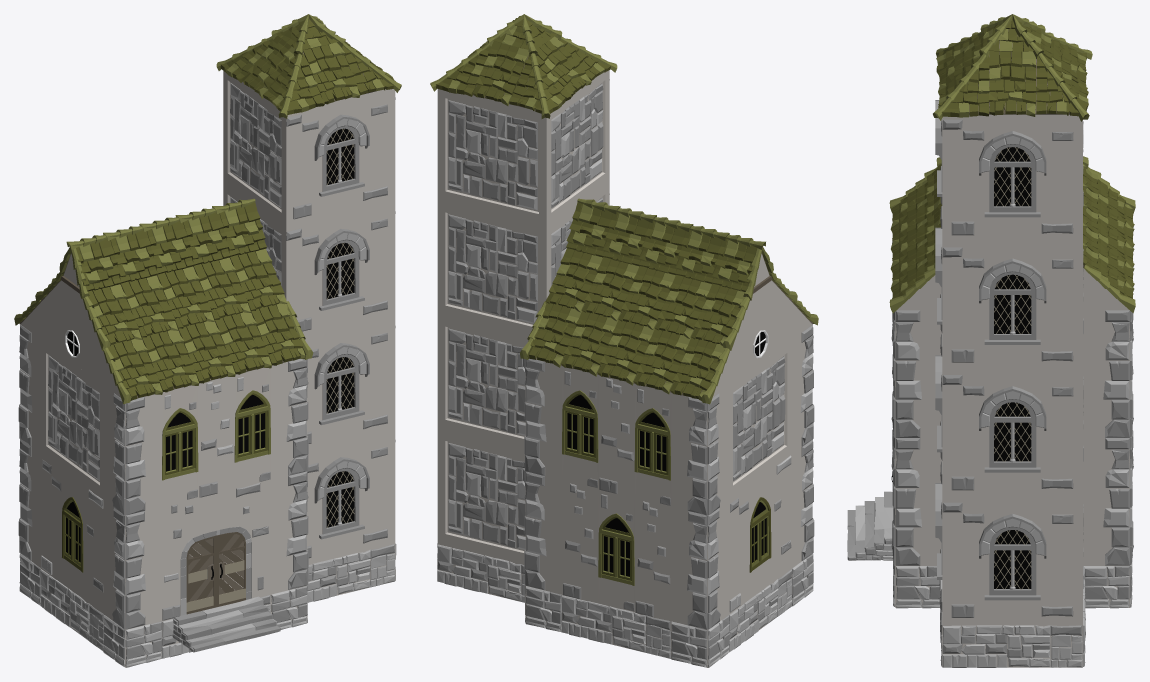
File: House_04.glb
3 views of the same model, side by side, from view 1: azimuth 30°, elevation 25°; view 2: azimuth 150°, elevation 25°; view 3: azimuth 270°, elevation 25° (orthographic). The views are drawn at different scales.
Parts seen in each view (by area): view 1: DOOR_02_2, WINDOW_03_22, WINDOW_03_23, WINDOW_03_24, WINDOW_03_25, WALL_02_7, WALL_02_2, WINDOW_02_2, WINDOW_01_02, WALL_07_2, WALL_05_2, WALL_06_3 (+41 smaller); view 2: WALL_02_6, WALL_02_5, WALL_02_3, WALL_02_4, WINDOW_02_2, WALL_02_2, WALL_02_7, WALL_05_9, WALL_05_8, WALL_06_6, WALL_06_5, FOUNDATION_03_6 (+42 smaller); view 3: WINDOW_03_18, WINDOW_03_20, WINDOW_03_19, WINDOW_03_21, FOUNDATION_03_4, WALL_07_8, WALL_07_7, WALL_05_7, WALL_05_6, ROOF_BASE_23, STAIRS_03_2, ROOF_CORNER_OUT_5 (+32 smaller).
Boxes of the visible parts, x1,y1,x2,y2 form: DOOR_02_2: (161, 480, 270, 620); WINDOW_03_22: (285, 89, 395, 226); WINDOW_03_23: (286, 201, 395, 336); WINDOW_03_24: (305, 315, 395, 449); WINDOW_03_25: (307, 429, 395, 564); WALL_02_7: (223, 71, 289, 227); WALL_02_2: (41, 340, 104, 499); WINDOW_02_2: (41, 454, 104, 613); WINDOW_01_02: (161, 385, 198, 506); WALL_07_2: (271, 471, 307, 593); WALL_05_2: (125, 506, 161, 629); WALL_06_3: (198, 376, 234, 497); WALL_02_6: (437, 89, 548, 226); WALL_02_5: (437, 201, 546, 336); WALL_02_3: (437, 429, 525, 564); WALL_02_4: (437, 315, 528, 450); WINDOW_02_2: (728, 454, 791, 613); WALL_02_2: (728, 340, 791, 499); WALL_02_7: (543, 70, 609, 227); WALL_05_9: (525, 471, 562, 594); WALL_05_8: (525, 358, 562, 479); WALL_06_6: (635, 498, 671, 620); WALL_06_5: (562, 480, 598, 603); FOUNDATION_03_6: (562, 594, 671, 658); WINDOW_03_18: (942, 497, 1082, 624); WINDOW_03_20: (942, 242, 1082, 369); WINDOW_03_19: (942, 369, 1082, 497); WINDOW_03_21: (942, 114, 1082, 241); FOUNDATION_03_4: (942, 625, 1082, 667); WALL_07_8: (1083, 438, 1129, 565); WALL_07_7: (1083, 310, 1129, 437); WALL_05_7: (895, 310, 941, 437); WALL_05_6: (895, 438, 941, 565); ROOF_BASE_23: (988, 49, 1036, 116); STAIRS_03_2: (847, 491, 893, 560); ROOF_CORNER_OUT_5: (933, 51, 989, 120).
Size of the model in its own units: 8.35 by 14.66 by 6.15.
1 material, 1 textured.
